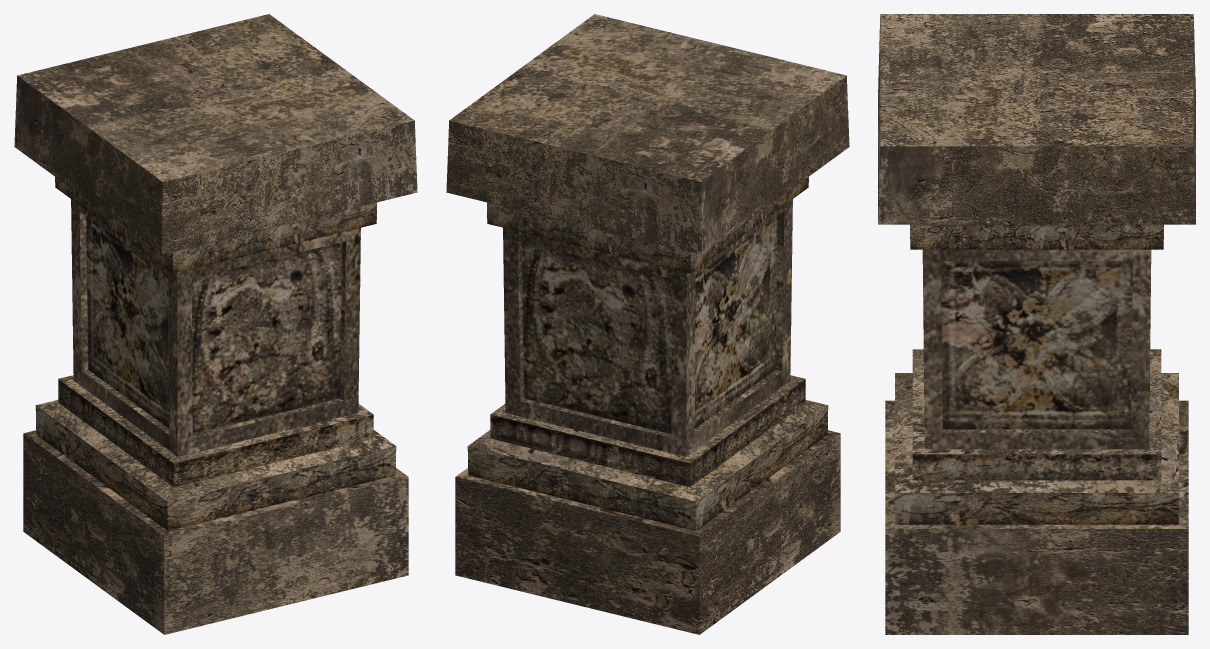
File: materials_5_pillar_short_9.fbx
3 views of the same model, side by side, from view 1: azimuth 30°, elevation 25°; view 2: azimuth 150°, elevation 25°; view 3: azimuth 270°, elevation 25° (orthographic). The views are drawn at different scales.
Parts seen in each view (by area): view 1: materials_5_pillar_short_9; view 2: materials_5_pillar_short_9; view 3: materials_5_pillar_short_9.
Boxes of the visible parts, left/top/right/bottom form: materials_5_pillar_short_9: left=14, top=14, right=417, bottom=634; materials_5_pillar_short_9: left=446, top=14, right=849, bottom=634; materials_5_pillar_short_9: left=878, top=14, right=1195, bottom=634.
Size of the model in its own units: 31.34 by 53.39 by 31.34.
